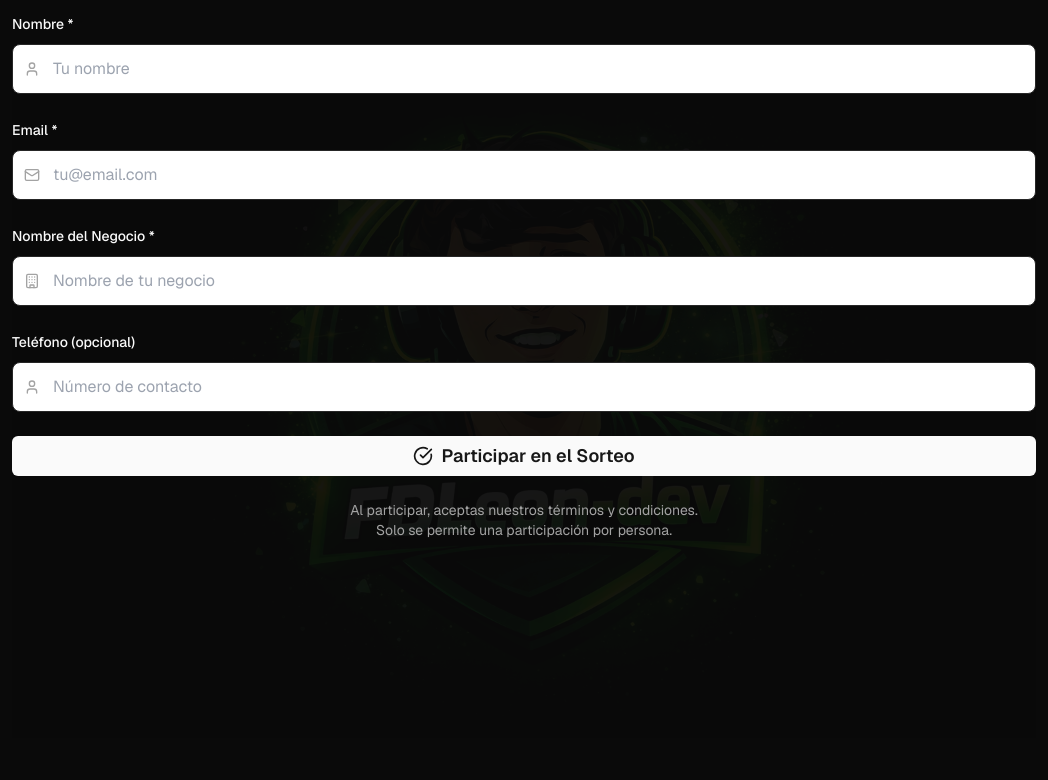
Test case: SorteoForm › handles duplicate email error
The image size is (1048, 780).
Step 1. Type "Juan" into the field labelled "Nombre *" → (524, 69), box [12,44,1036,94]
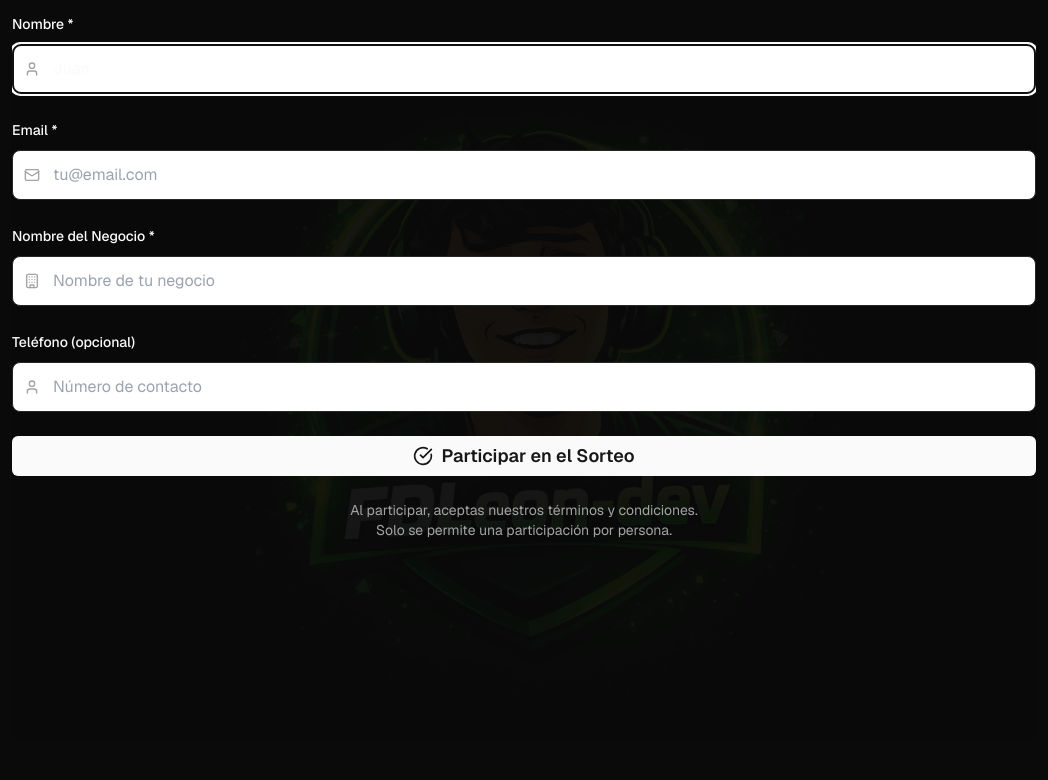
Step 2. Type "juan@example.com" into the field labelled "Email *" → (524, 175), box [12,150,1036,200]
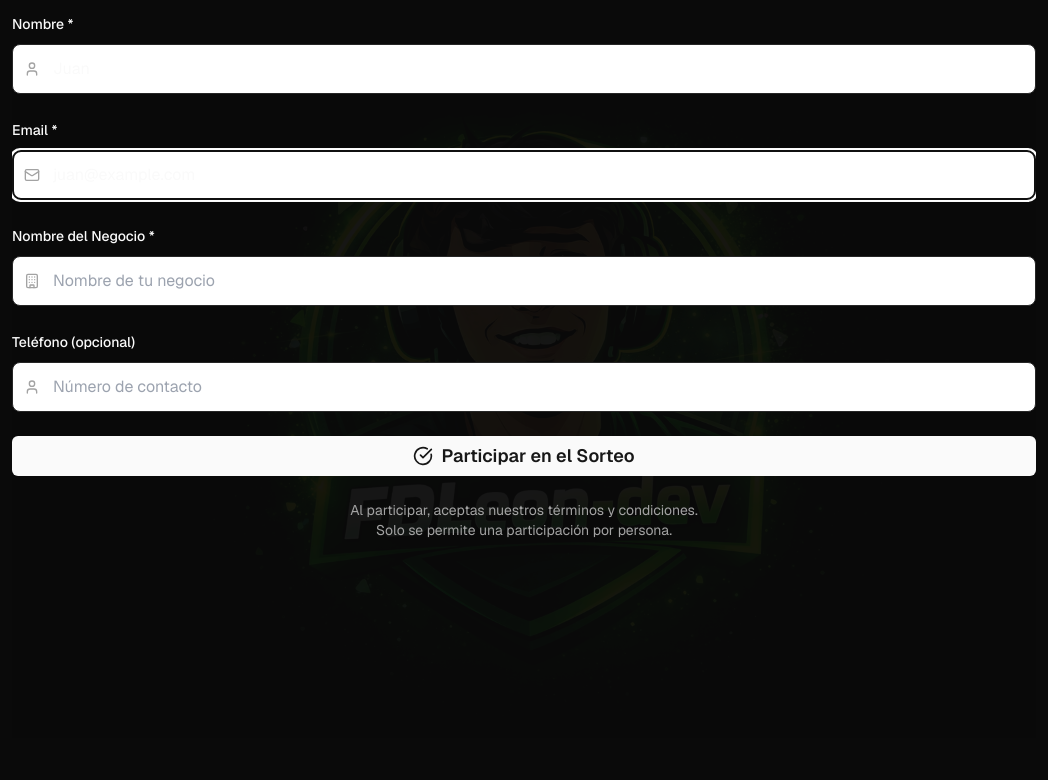
Step 3. Type "MiNegocio" into the field labelled "Nombre del Negocio *" → (524, 281), box [12,256,1036,306]
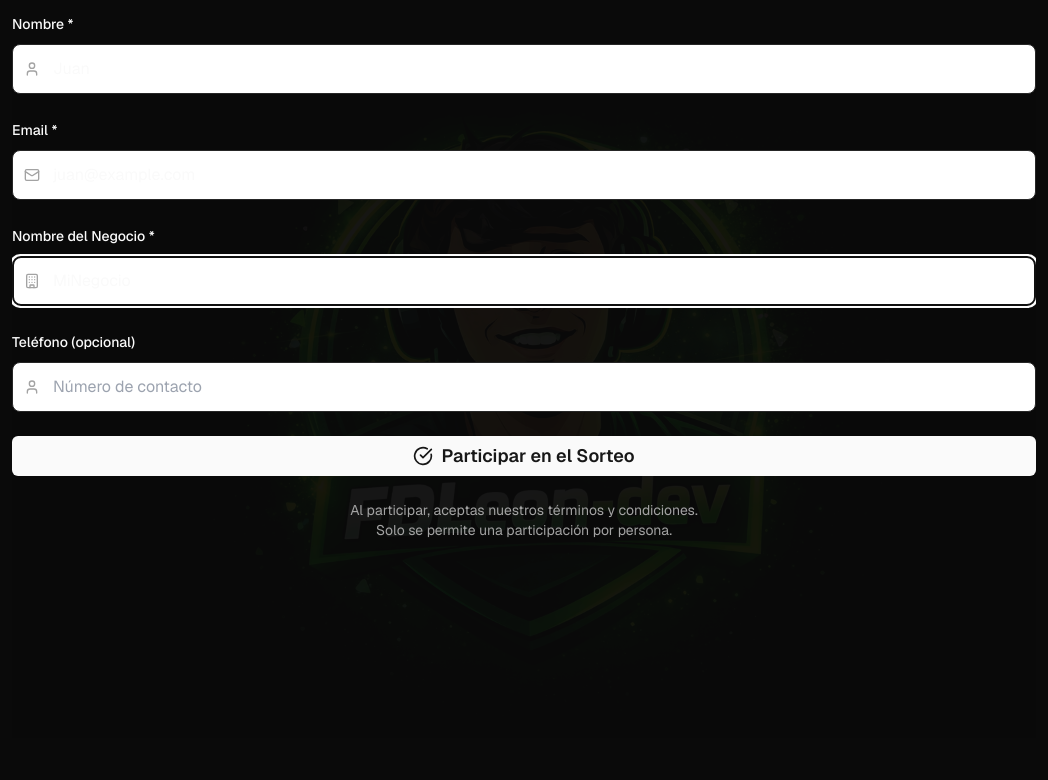
Step 4. Click the button "Participar en el Sorteo" → (524, 456), box [12,436,1036,476]
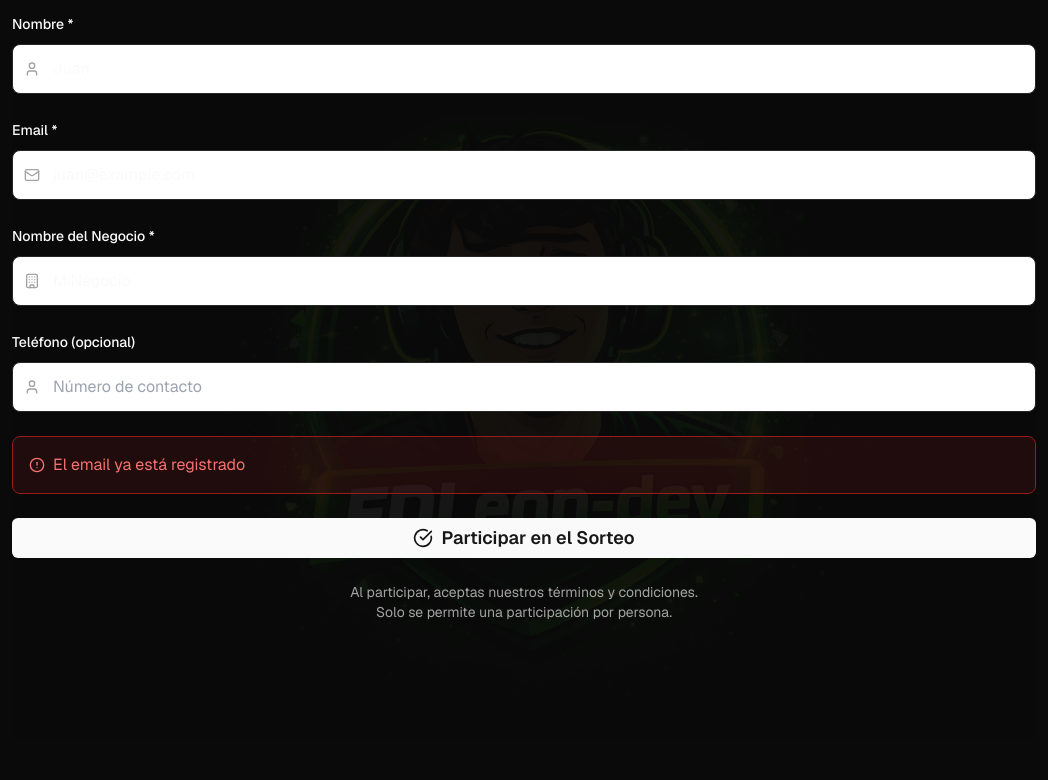
expect the text "El email ya está registrado" is shown: met, box [29,454,245,475]
